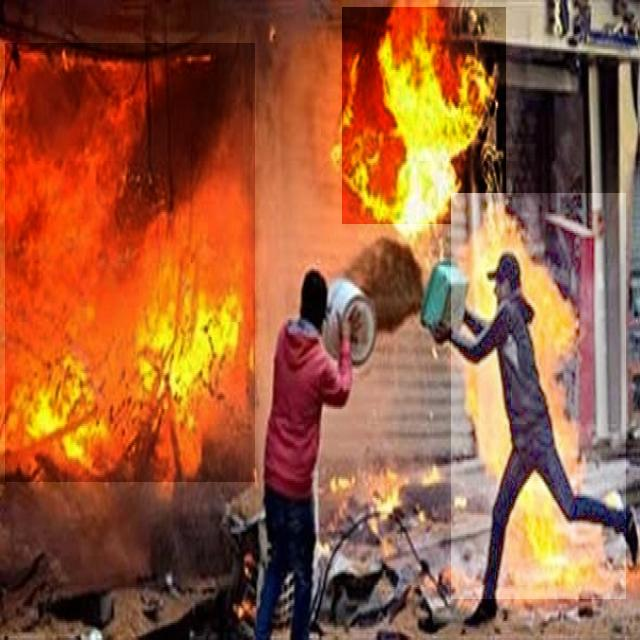Fire: (5, 43, 255, 482), (451, 193, 626, 599), (342, 7, 506, 224)
